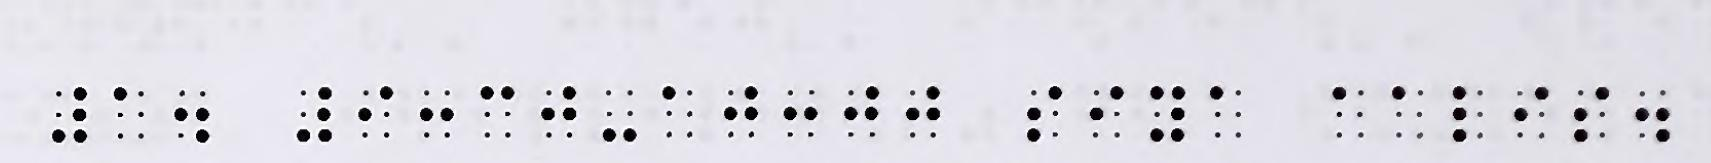0: (540, 85, 577, 143), (843, 84, 881, 140), (906, 84, 942, 141), (722, 84, 758, 140)
1: (660, 84, 696, 141), (113, 88, 147, 142)
3: (477, 83, 515, 142)
9: (357, 85, 394, 141)
a: (1209, 84, 1246, 143), (1330, 85, 1367, 143), (1392, 84, 1426, 141)
i: (1512, 85, 1550, 140), (1090, 84, 1124, 141)
l: (1450, 86, 1485, 142)
number: (295, 86, 333, 142), (51, 88, 86, 143)
s: (1026, 86, 1064, 142), (1574, 88, 1611, 142)
y: (1150, 85, 1185, 143)
